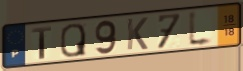7: (156, 12, 182, 50)
9: (93, 18, 118, 55)
K: (125, 16, 149, 51)
L: (187, 8, 215, 49)
Q: (59, 22, 88, 59)
T: (31, 25, 54, 61)
